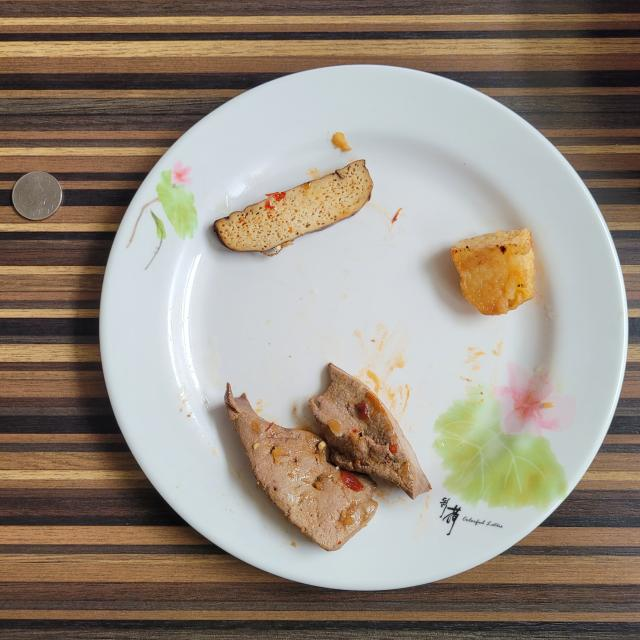coin: (12, 171, 62, 220)
firm tofu: (214, 160, 372, 251)
fried potato: (450, 229, 535, 315)
pig liver: (225, 364, 431, 551)
